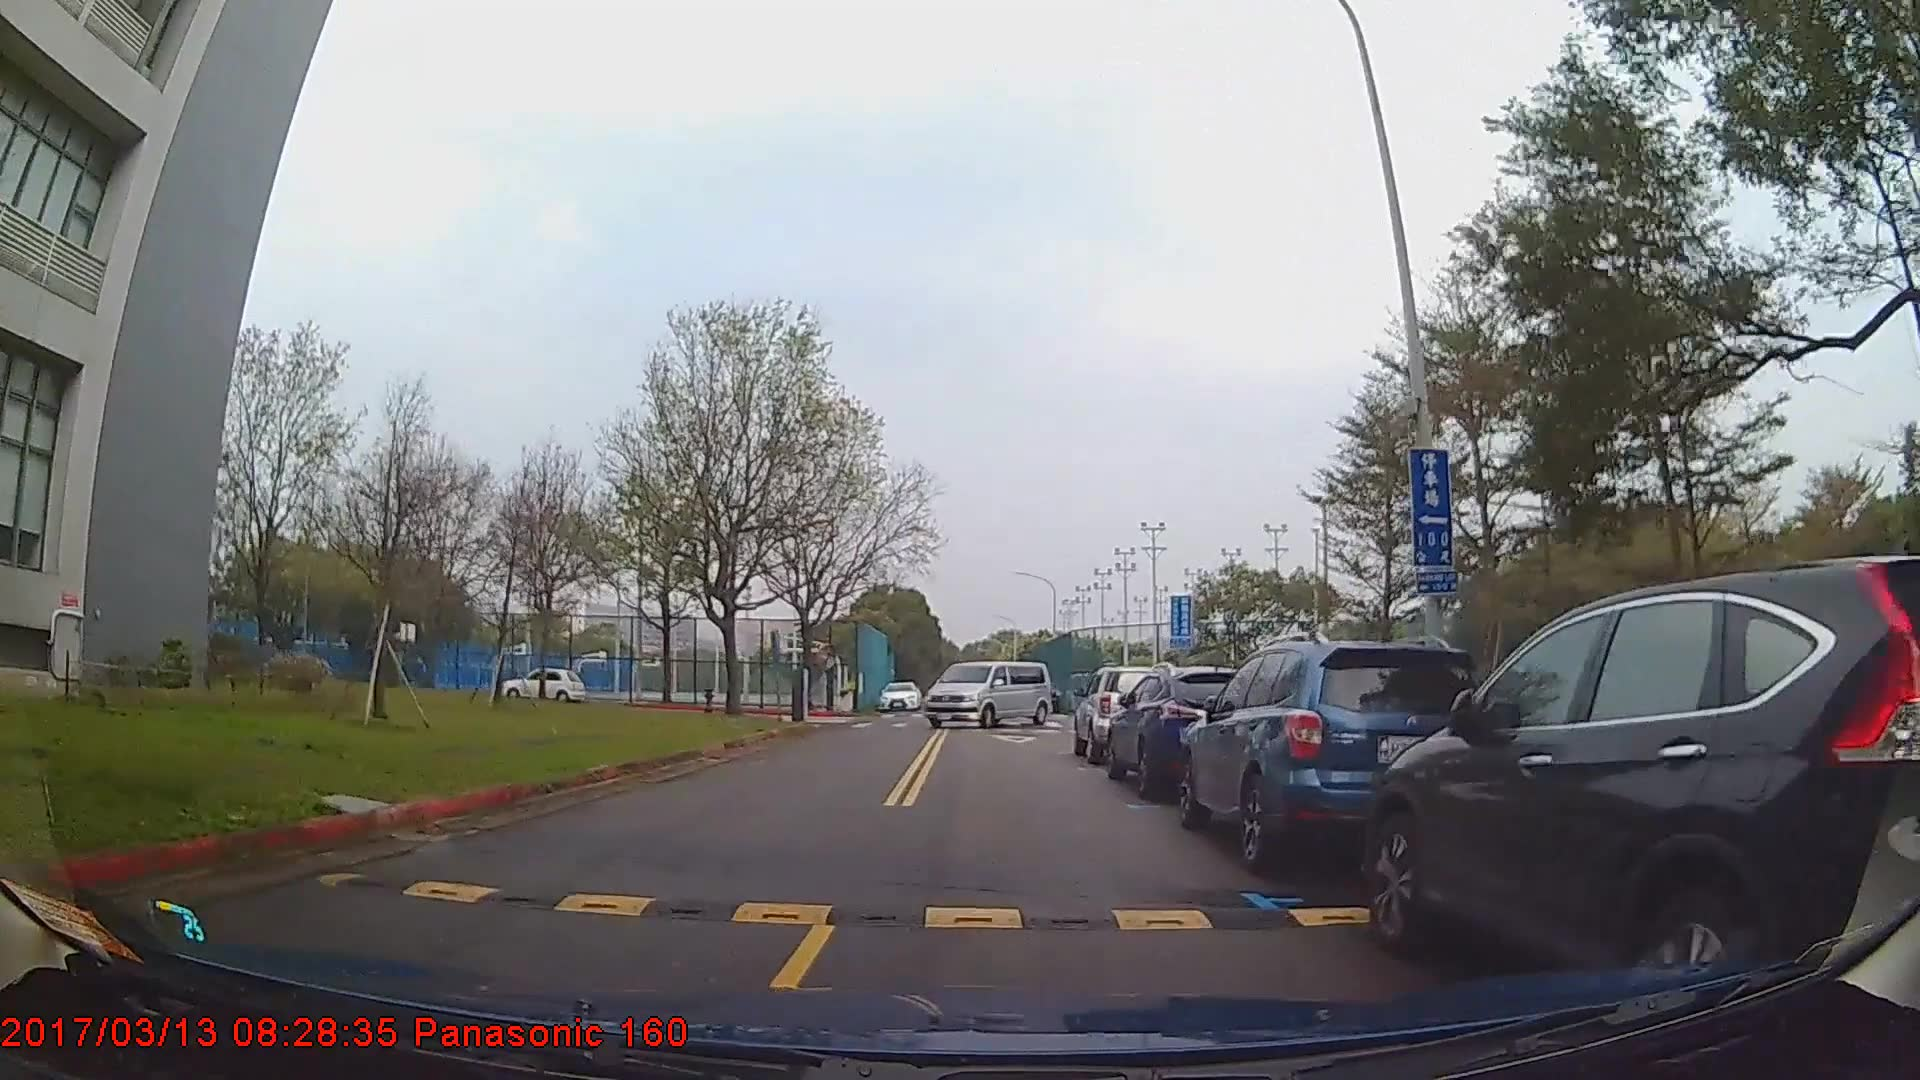vehicle: (1364, 553, 1920, 1005), (1174, 640, 1490, 862), (1104, 661, 1262, 795), (1072, 662, 1168, 761), (920, 658, 1052, 729), (502, 663, 585, 705), (876, 679, 919, 709)
